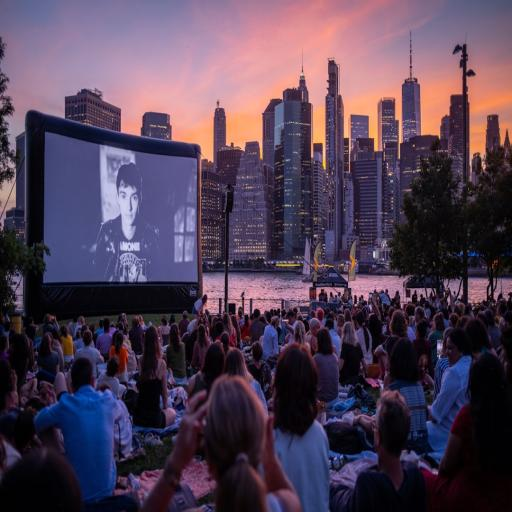face: (117, 181, 140, 226), (447, 338, 462, 366)
